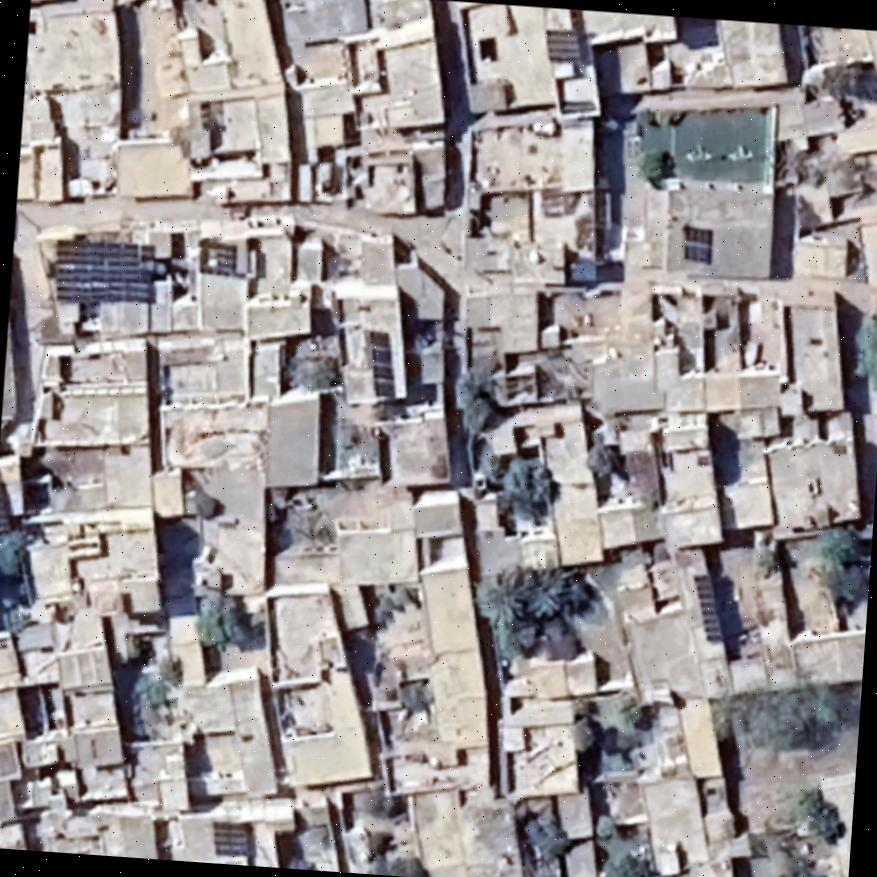Solarpanel: (45, 229, 165, 314), (683, 566, 733, 647), (359, 324, 405, 405), (207, 815, 258, 862), (540, 22, 590, 68), (194, 235, 242, 280), (676, 220, 718, 267), (0, 474, 17, 538)
